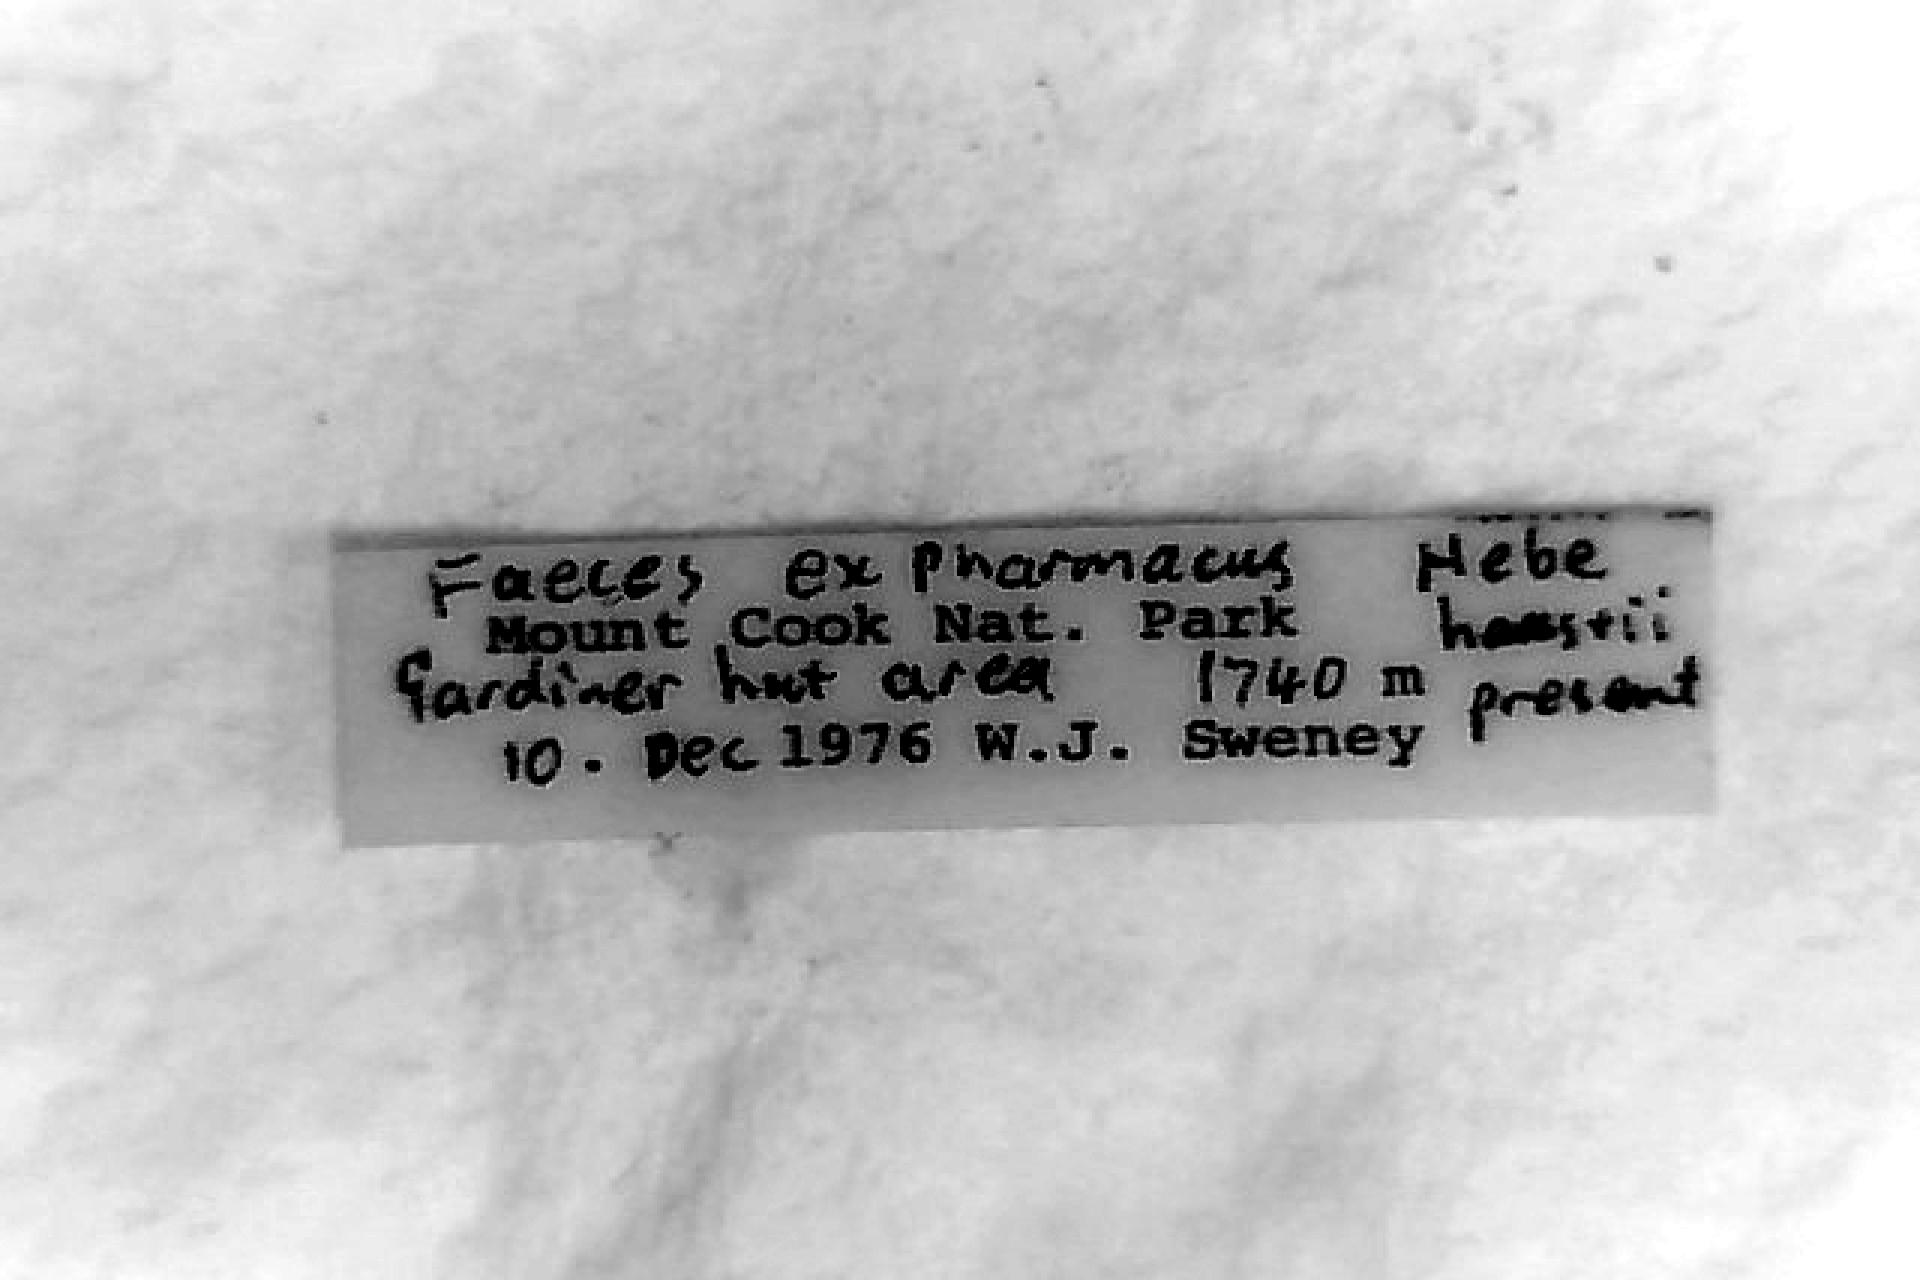mixed_label: (337, 510, 1714, 843)
